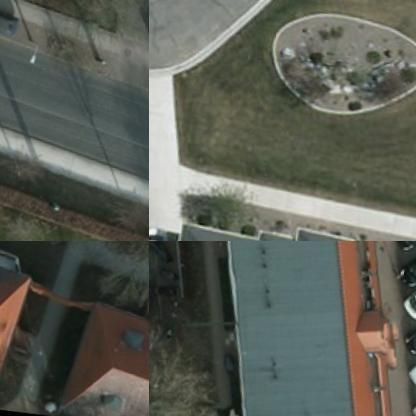car: (391, 244, 415, 295), (397, 311, 415, 362), (399, 343, 415, 395), (0, 6, 14, 36)
van: (392, 267, 415, 328)
